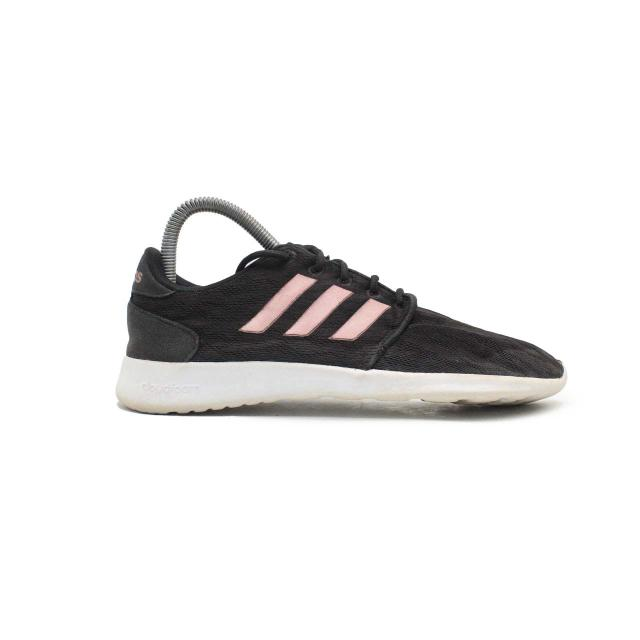heel: (128, 244, 209, 363)
midsole: (113, 355, 568, 417)
uppersole: (210, 241, 562, 376)
